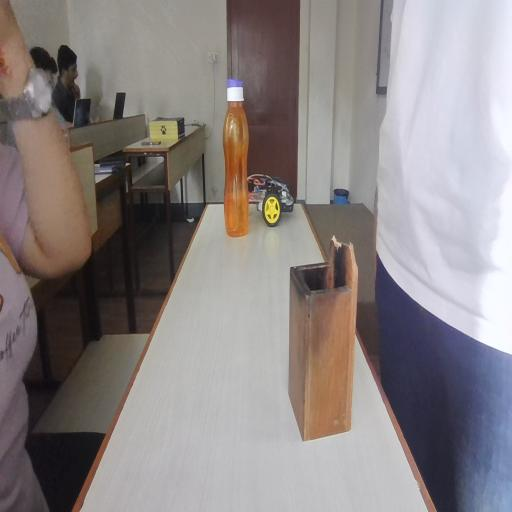Bottle: (215, 76, 261, 255)
car: (260, 149, 288, 234)
